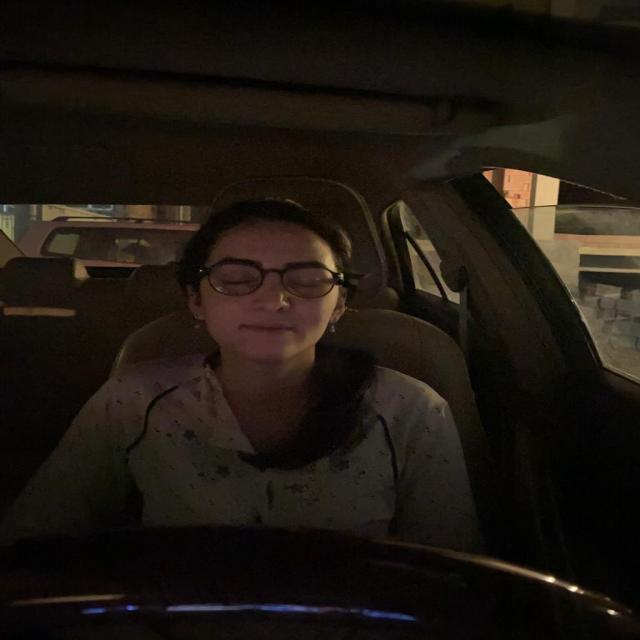drowsy: (192, 213, 354, 362)
